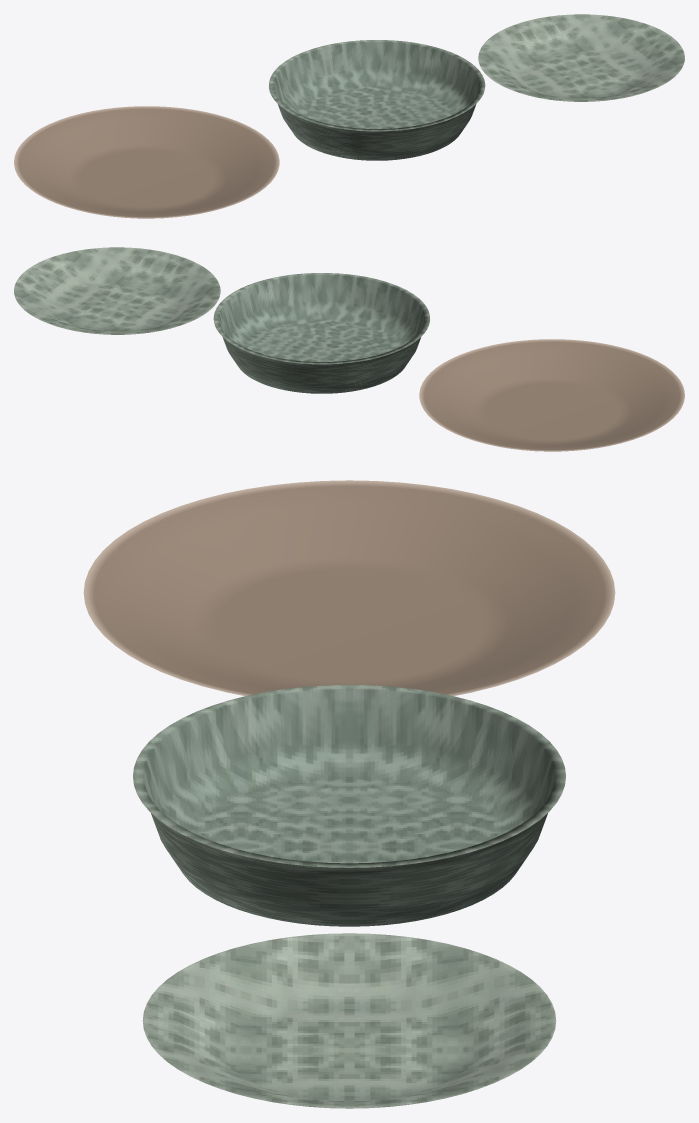
Rendered from HOJ-04.glb.
3 views of the same model, one above another, from view 1: azimuth 30°, elevation 25°; view 2: azimuth 150°, elevation 25°; view 3: azimuth 270°, elevation 25° (orthographic). The views are drawn at different scales.
Size of the model in its own units: 0.75 by 0.045 by 0.27.
6 materials, 6 textured.
